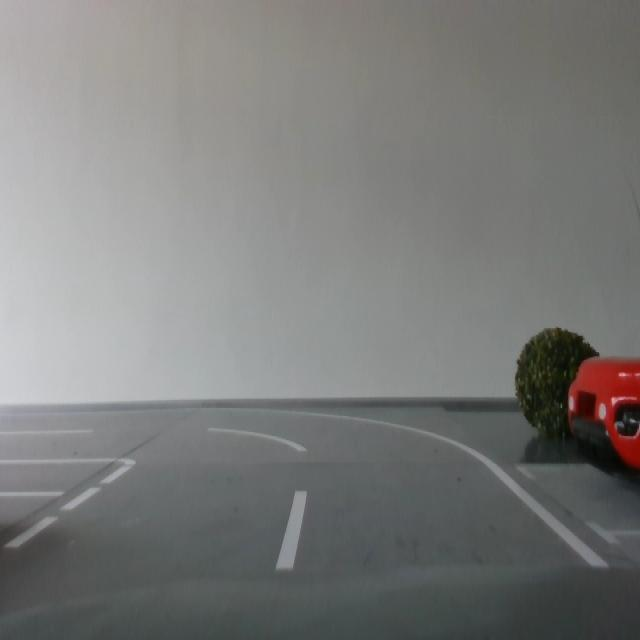car: (567, 356, 640, 470)
